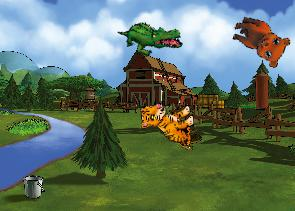bear: (225, 13, 293, 70)
crocodile: (117, 12, 184, 63)
tiger: (139, 100, 196, 148)
